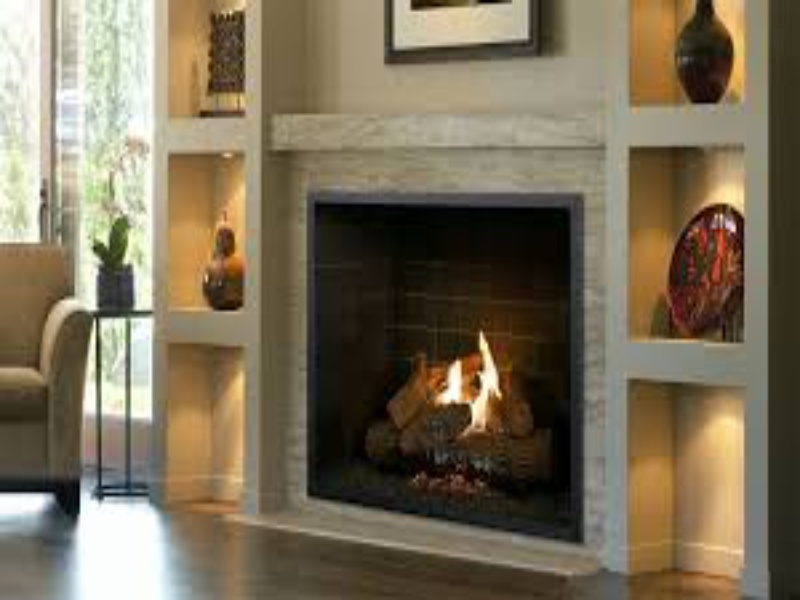fire: (433, 322, 502, 431)
